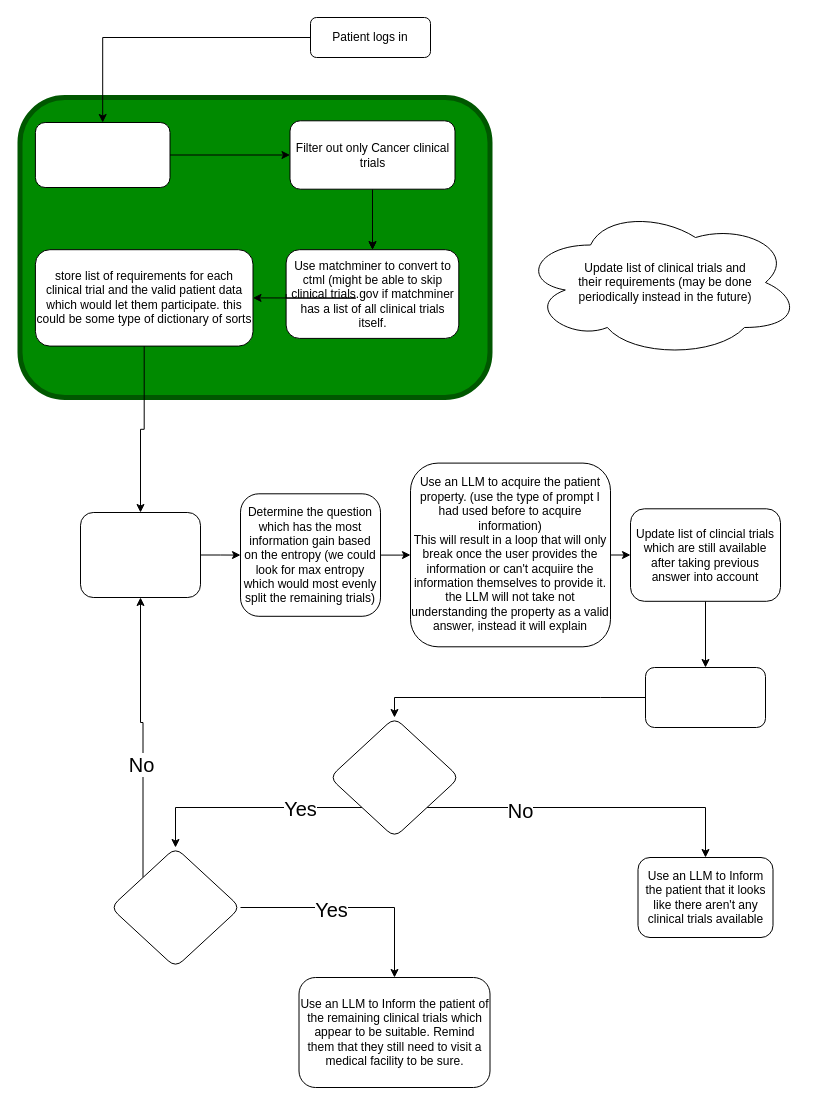
Some shapes in this 818 by 1105 pixel diagram are drawn without their labels. The shapes that lost their labels are listed below. From the top down, each one's box as (x1, y1, x2, y2) in pixels, then its label:
(34, 122, 170, 188): API request for all clincial trials from clinical trials.gov
(80, 512, 200, 598): Find entropy of data set after having acquired each possible patient property
(644, 666, 766, 728): Remove previous property from list of unkown properties
(328, 716, 460, 838): Are there any clincial trials left?
(110, 846, 240, 968): Have you asked all of the questions?
